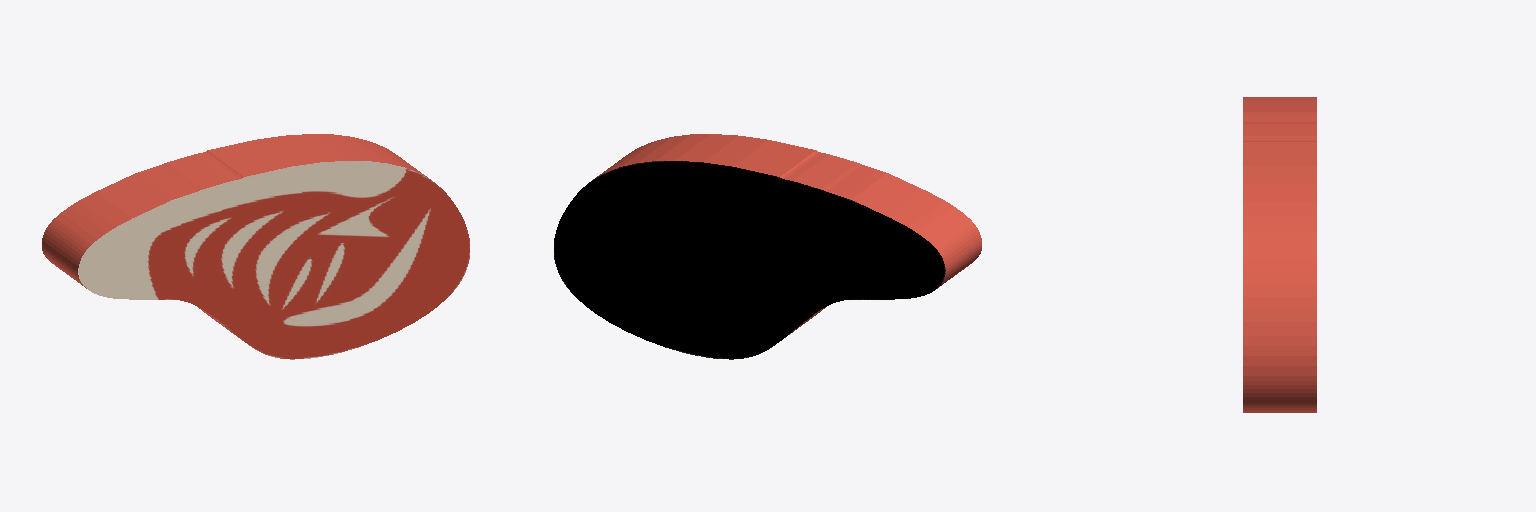
3 renders of one model, left to right at view 1: azimuth 30°, elevation 25°; view 2: azimuth 150°, elevation 25°; view 3: azimuth 270°, elevation 25°, orthographic.
Parts seen in each view (by area): view 1: レイヤー 1; view 2: レイヤー 1; view 3: レイヤー 1.
Part boxes in pixels (bbox=[...]): レイヤー 1: bbox=[42, 134, 469, 359]; レイヤー 1: bbox=[554, 134, 981, 359]; レイヤー 1: bbox=[1243, 97, 1316, 412].
Bounding box in the file's own units: 531 × 258 × 85.74.
Materials: 1 (1 with a texture image).